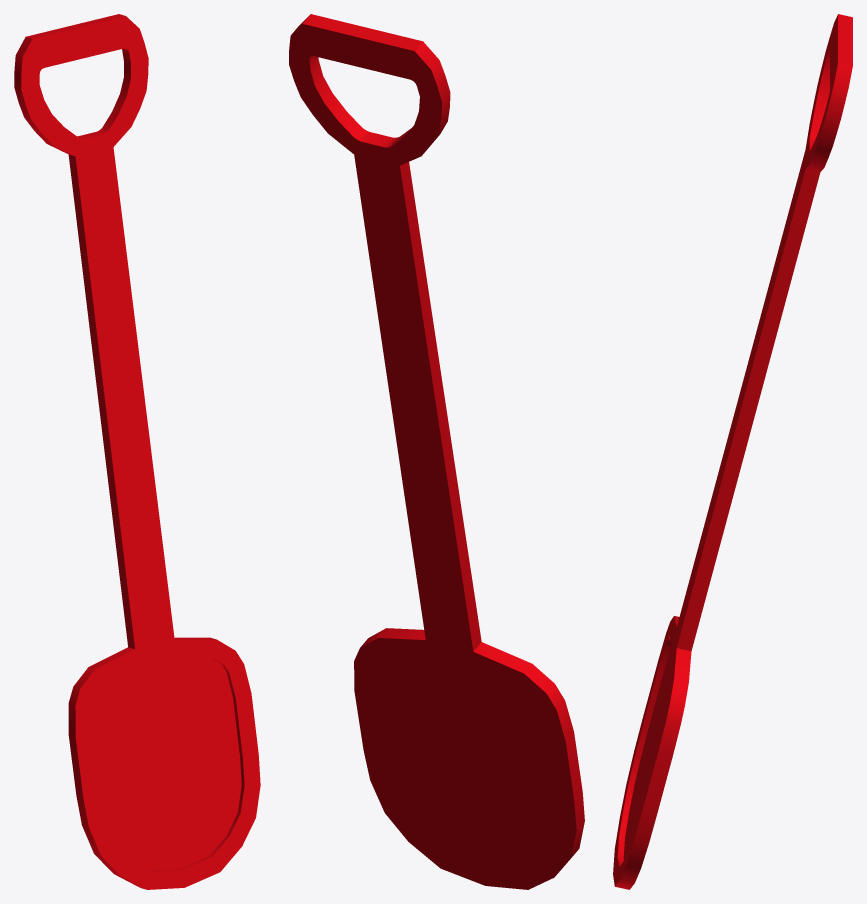
File: BaseTowerV2_Shovel.fbx
3 views of the same model, side by side, from view 1: azimuth 30°, elevation 25°; view 2: azimuth 150°, elevation 25°; view 3: azimuth 270°, elevation 25° (orthographic). The views are drawn at different scales.
Visible parts, largest first — view 1: Shovel.001; view 2: Shovel.001; view 3: Shovel.001.
Part boxes in pixels (x1,y1,x2,y2): Shovel.001: (14, 14, 260, 889); Shovel.001: (289, 14, 584, 889); Shovel.001: (613, 14, 852, 889).
Size of the model in its own units: 53.22 by 227 by 58.88.
